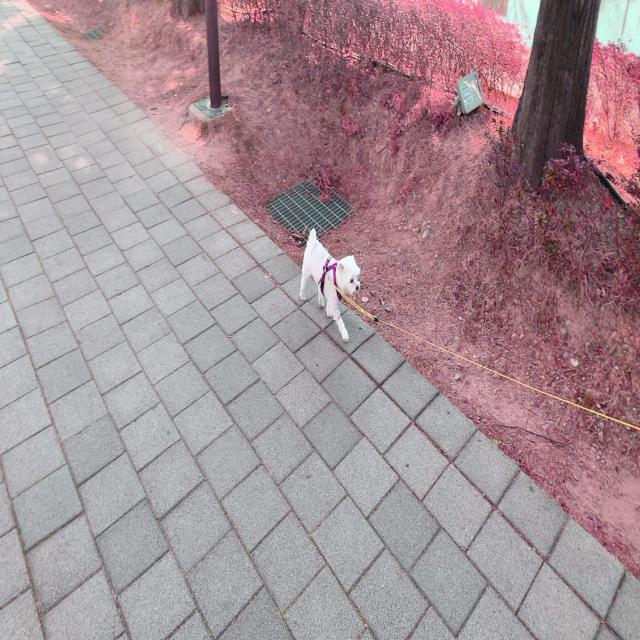Dog: (299, 228, 360, 344)
